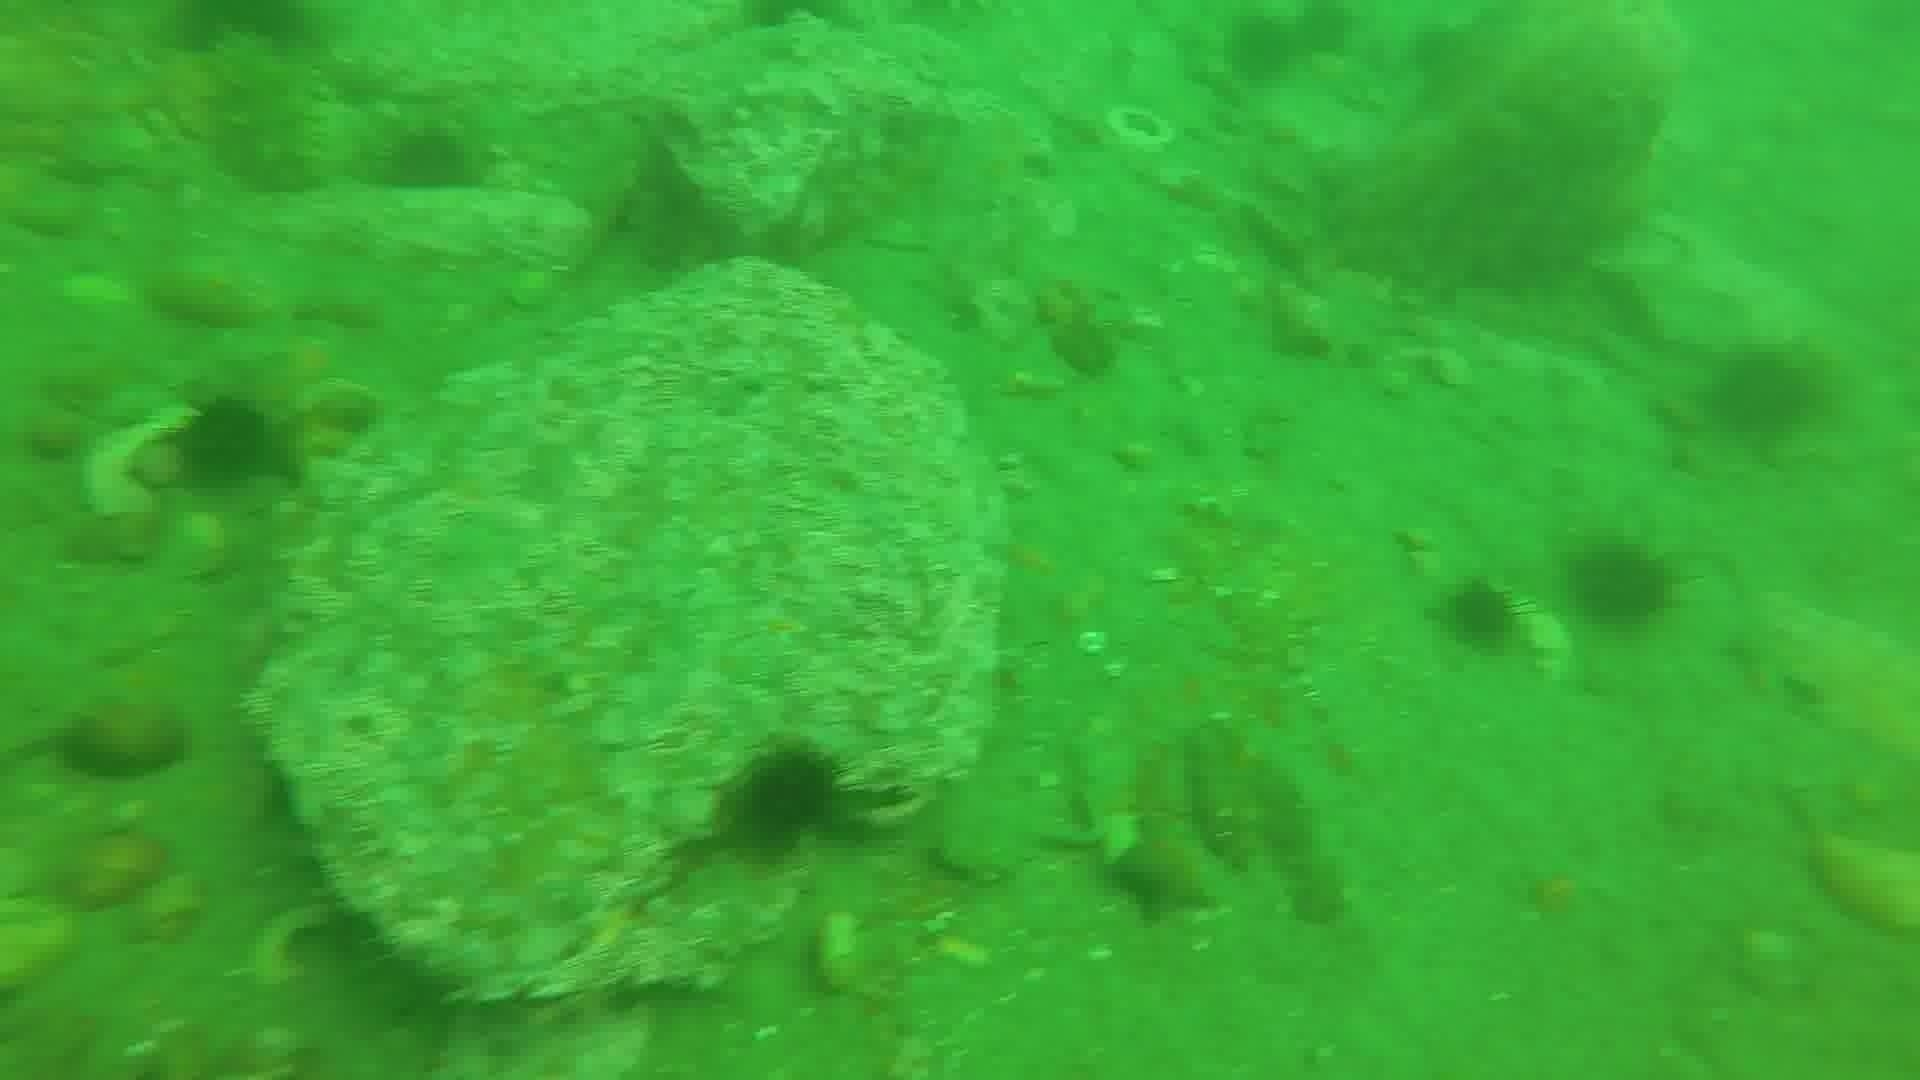echinus: (728, 741, 849, 853), (1702, 342, 1829, 448), (167, 392, 281, 493), (1564, 535, 1679, 634), (162, 1, 316, 61), (375, 121, 484, 200), (1433, 575, 1526, 655)
holothurian: (1218, 724, 1354, 928), (199, 36, 328, 200)
starfish: (1098, 806, 1226, 926)
